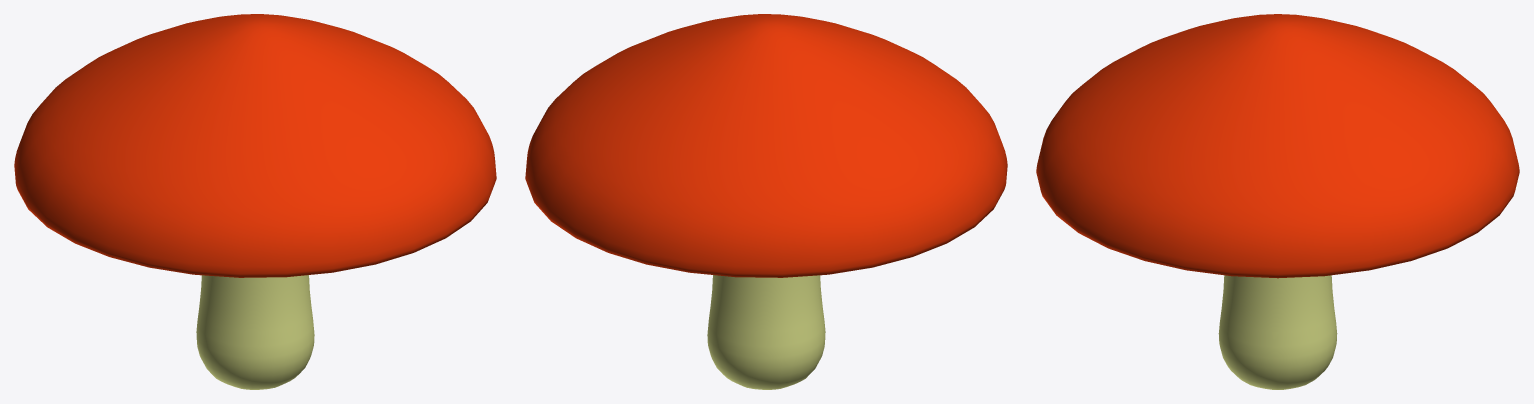
File: cogumas2.fbx
3 renders of one model, left to right at view 1: azimuth 30°, elevation 25°; view 2: azimuth 150°, elevation 25°; view 3: azimuth 270°, elevation 25°, orthographic.
Visible parts, largest first — view 1: Cylinder; view 2: Cylinder; view 3: Cylinder.
Part boxes in pixels (x1,y1,x2,y2): Cylinder: (14, 14, 496, 389); Cylinder: (525, 14, 1007, 389); Cylinder: (1036, 14, 1519, 389).
Bounding box in the file's own units: 1074 × 873 × 1074.
